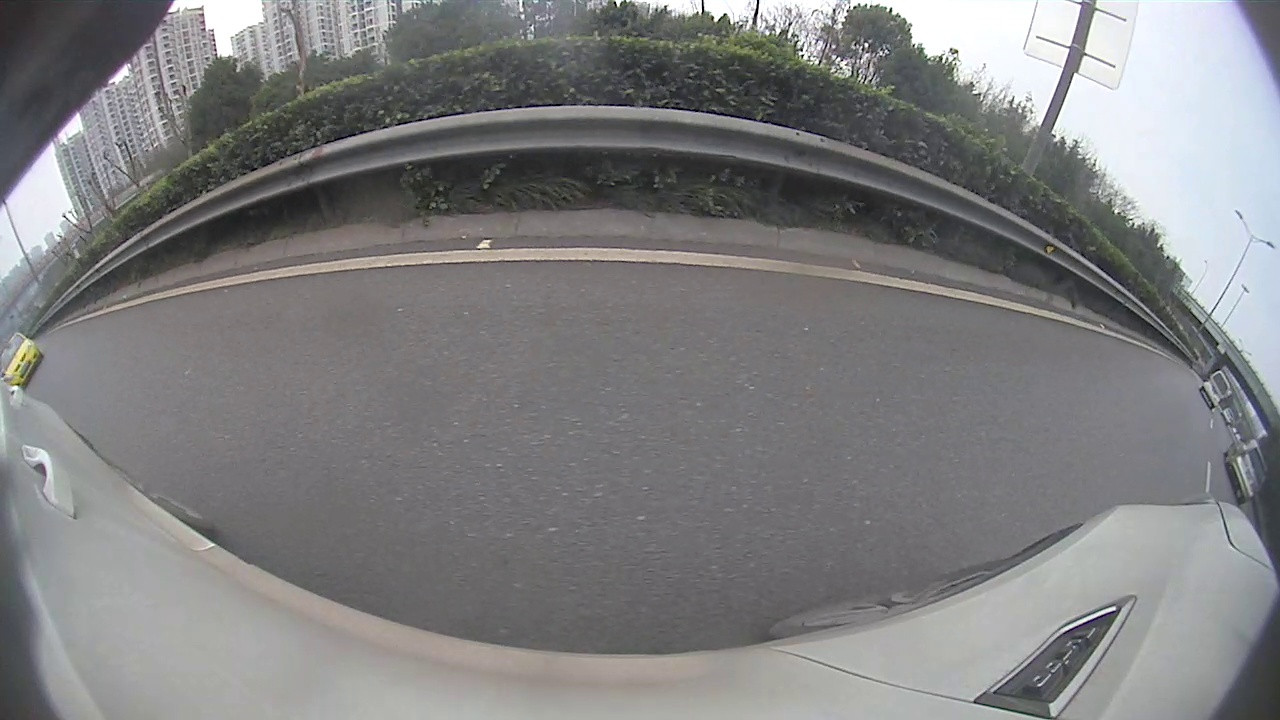car: (1224, 440, 1267, 507), (0, 333, 43, 388), (1201, 368, 1231, 409)
